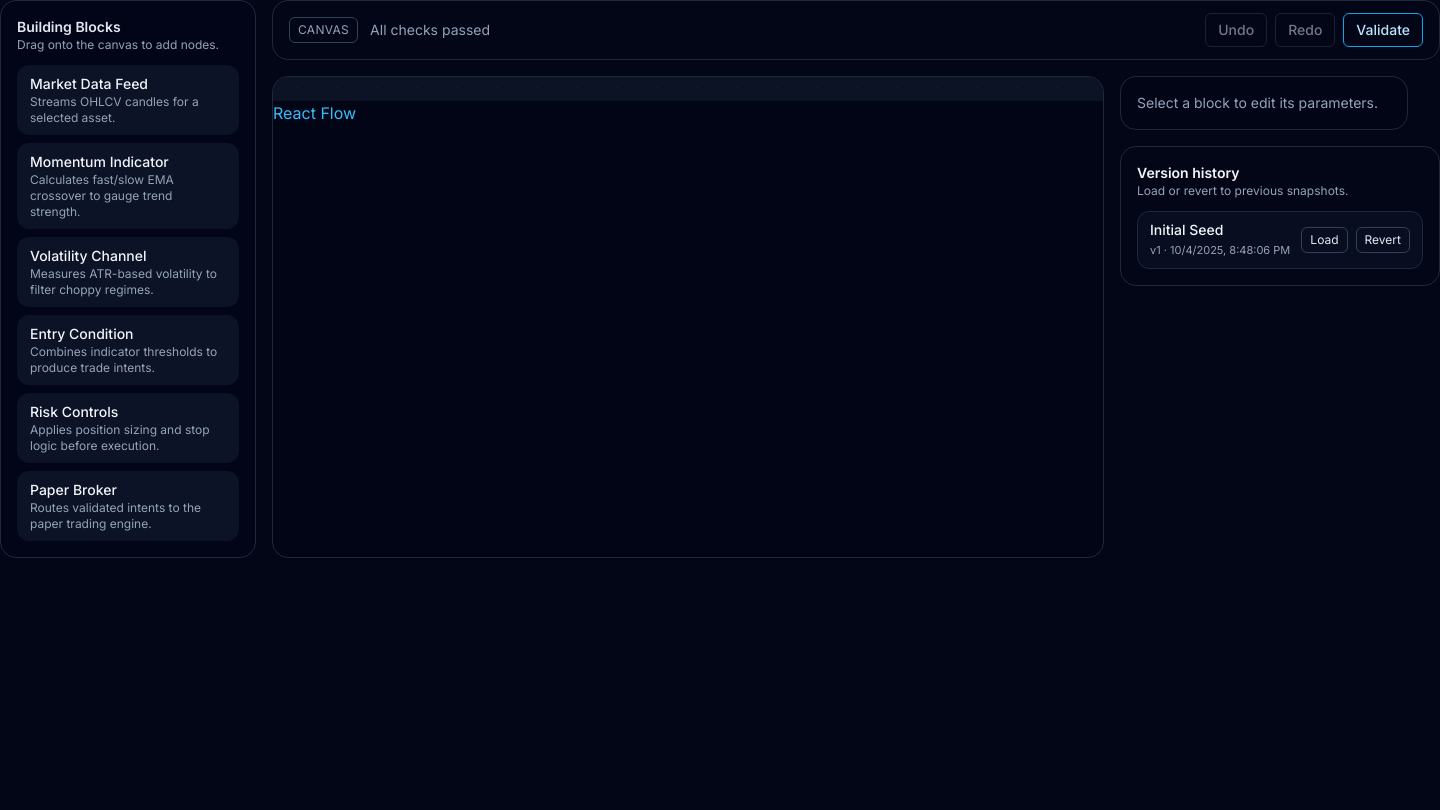
StrategyCanvas integration › surfaces global validation issues without node context
The image size is (1440, 810).
Click the button "Validate" at (1383, 30), box [1343, 13, 1423, 47]
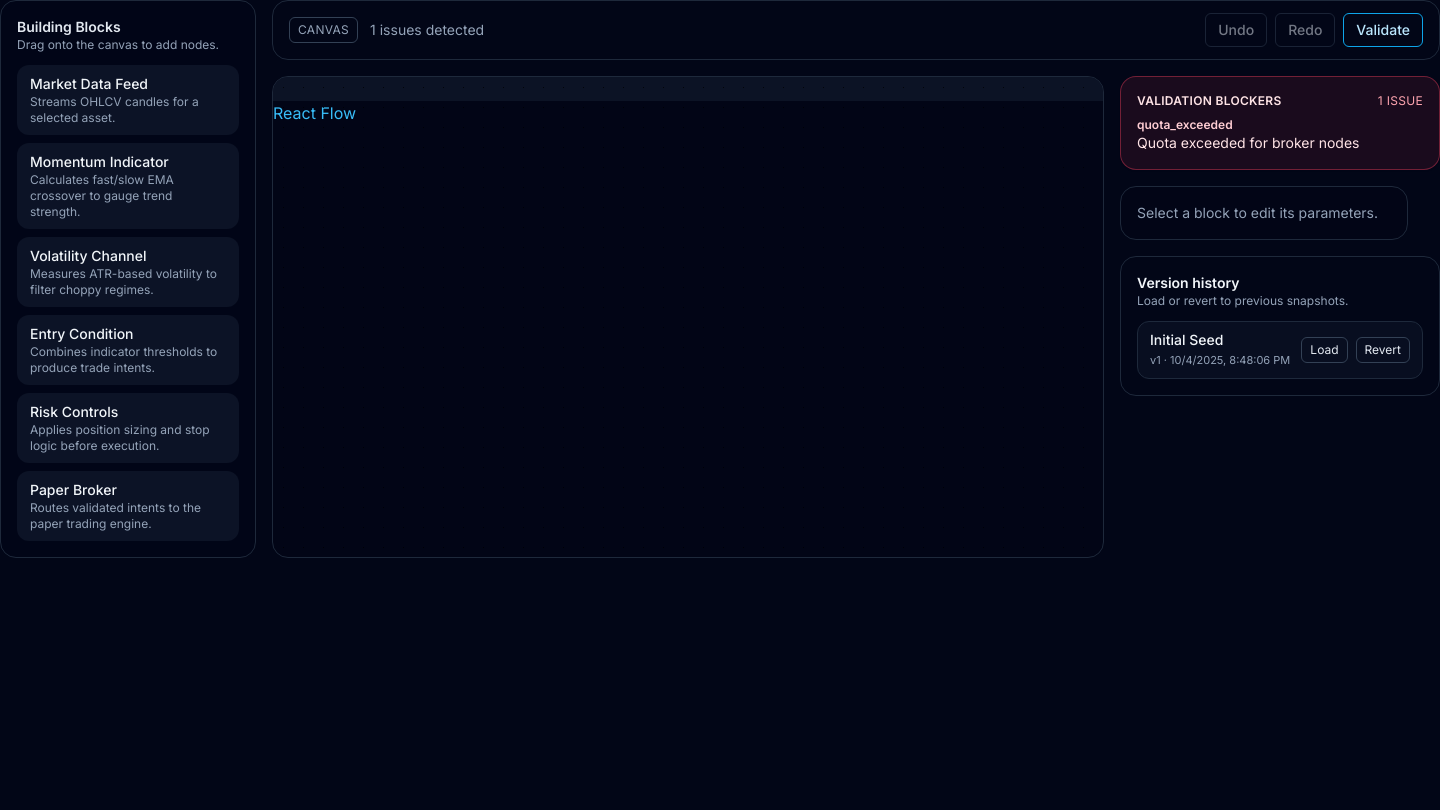
Expected: the element with test id "canvas-global-issues" is shown, [1120, 76, 1439, 170]
Expected: the text "Quota exceeded for broker nodes" is shown, [1137, 134, 1360, 151]
